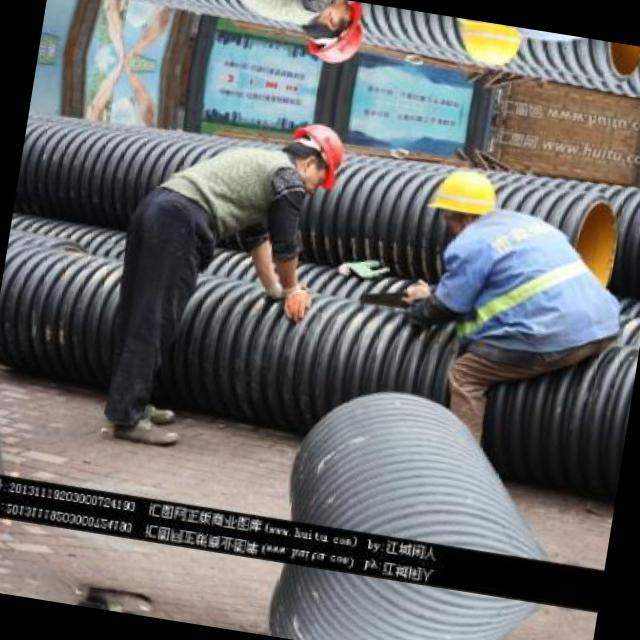helmet: (416, 159, 509, 248), (269, 116, 354, 196), (287, 0, 374, 71), (443, 17, 532, 77)
